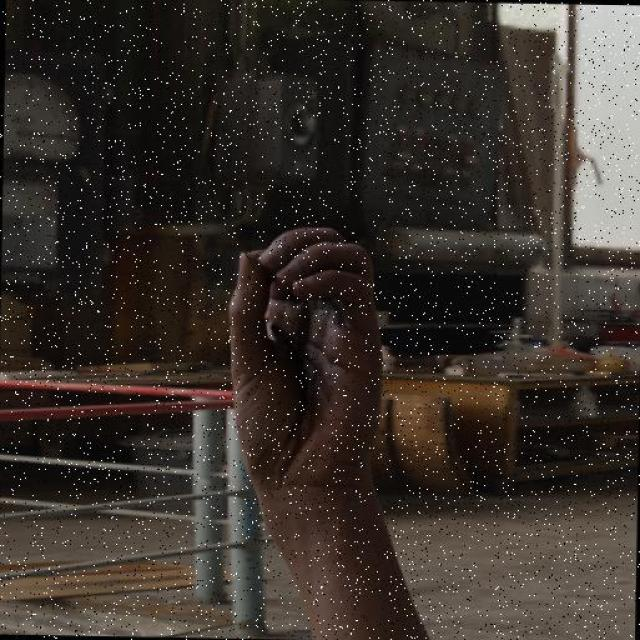O: (221, 220, 388, 494)
